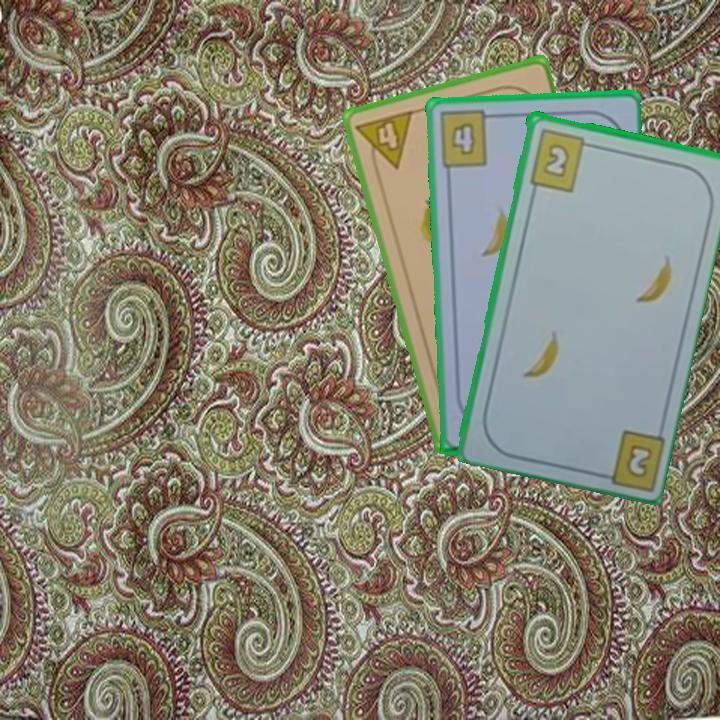2b: (591, 425, 666, 491), (525, 125, 596, 194)
4b: (435, 107, 499, 170)
4p: (352, 106, 416, 177)
